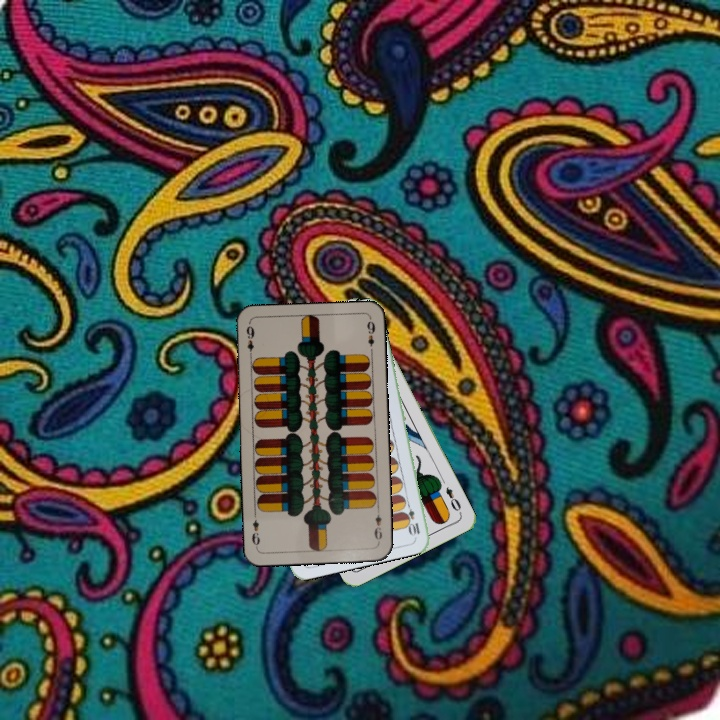E10: (402, 498, 423, 538)
E9: (370, 505, 385, 545), (242, 322, 257, 361)
EO: (442, 483, 463, 514)
